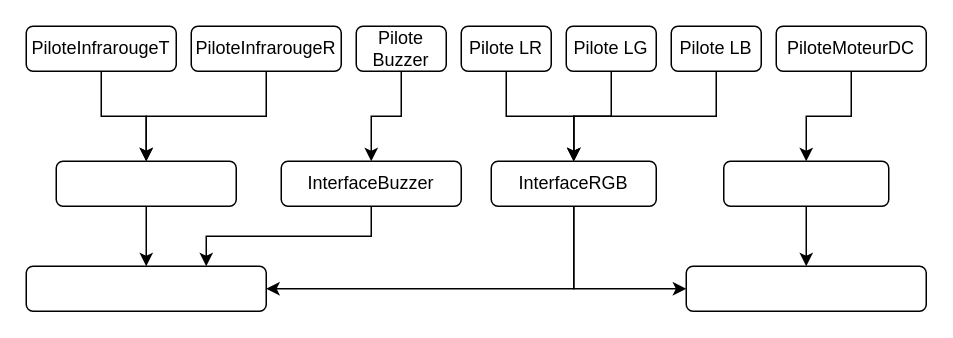
This 953x338 diagram has some shape labels left out. Each missing label, with the box of its shape:
InterfaceInfrarouge: (55, 160, 236, 206)
InterfaceMoteurDC: (722, 160, 889, 206)
ProcessusBarrerDebarrer: (685, 265, 926, 311)
ProcessusVerifieSerrure: (25, 265, 266, 311)
